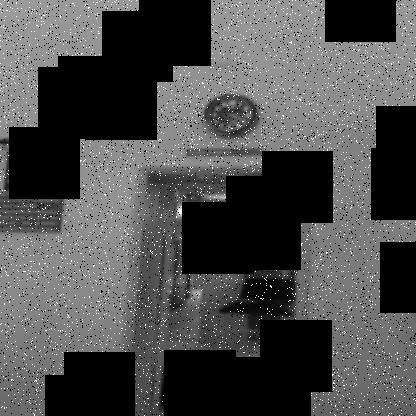Porte: (113, 151, 317, 416)
